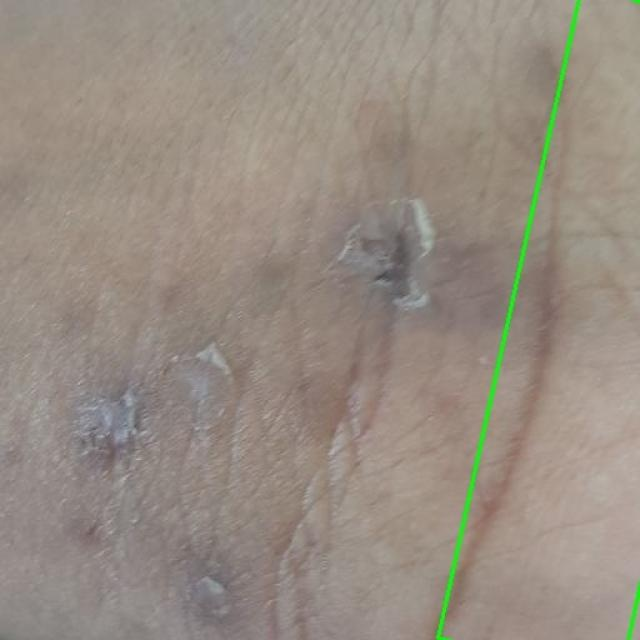Scabies: (438, 0, 640, 640)
